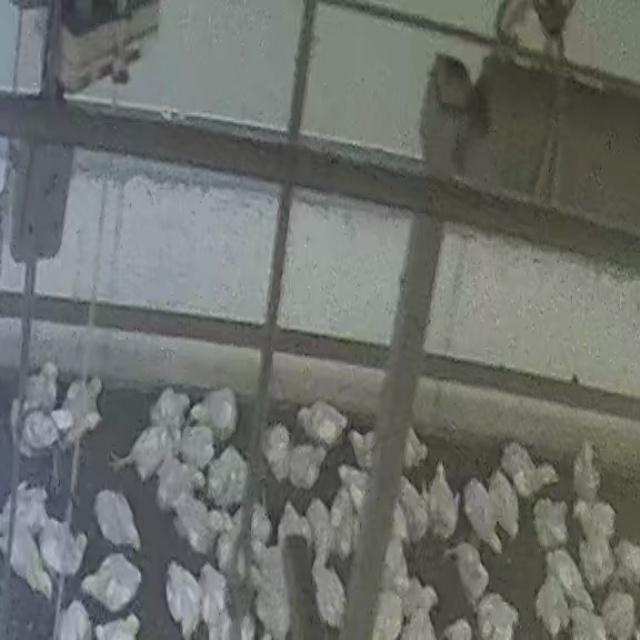chicken: (79, 551, 145, 608), (2, 527, 54, 595), (459, 477, 502, 552), (164, 560, 204, 638), (95, 488, 143, 551), (444, 540, 491, 604), (502, 443, 556, 498), (296, 396, 352, 444), (425, 462, 461, 534), (310, 557, 348, 623), (548, 553, 592, 609), (208, 446, 248, 506), (124, 424, 177, 468), (42, 517, 86, 570), (175, 492, 219, 545), (483, 464, 519, 528), (194, 385, 240, 431), (66, 370, 109, 419), (284, 438, 324, 490), (578, 529, 612, 582), (530, 498, 569, 544), (151, 382, 187, 431), (575, 494, 615, 537), (574, 440, 602, 499), (258, 423, 288, 478), (537, 581, 568, 633), (25, 361, 59, 405), (282, 498, 310, 545)
